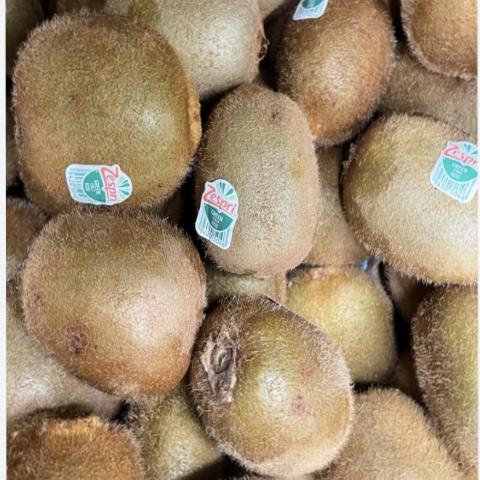kiwi: (8, 11, 217, 230), (17, 187, 226, 402), (155, 302, 382, 478), (188, 78, 340, 299), (342, 90, 480, 292)
